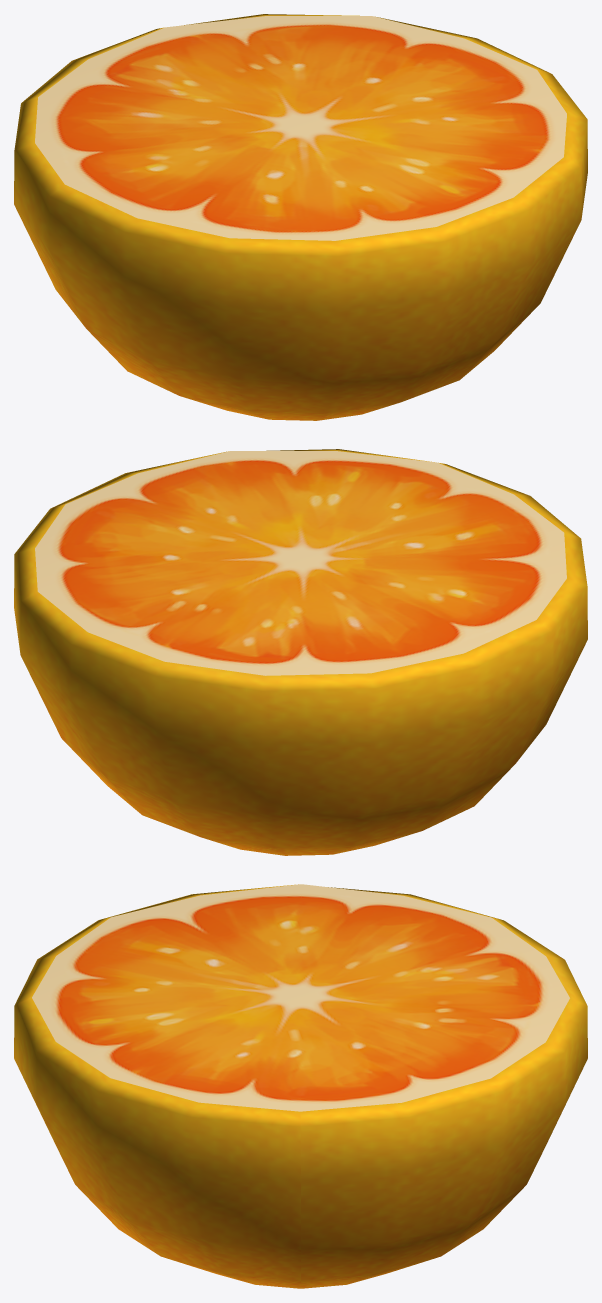
Rendered from 002-Apple_Orange_Half.FBX.
3 views of the same model, one above another, from view 1: azimuth 30°, elevation 25°; view 2: azimuth 150°, elevation 25°; view 3: azimuth 270°, elevation 25° (orthographic).
Parts seen in each view (by area): view 1: 002-Apple_Orange_Half; view 2: 002-Apple_Orange_Half; view 3: 002-Apple_Orange_Half.
Part boxes in pixels (x1=…): 002-Apple_Orange_Half: x1=14, y1=14, x2=587, y2=420; 002-Apple_Orange_Half: x1=14, y1=449, x2=587, y2=855; 002-Apple_Orange_Half: x1=14, y1=884, x2=587, y2=1288.
Size of the model in its own units: 11.45 by 5.84 by 11.45.
